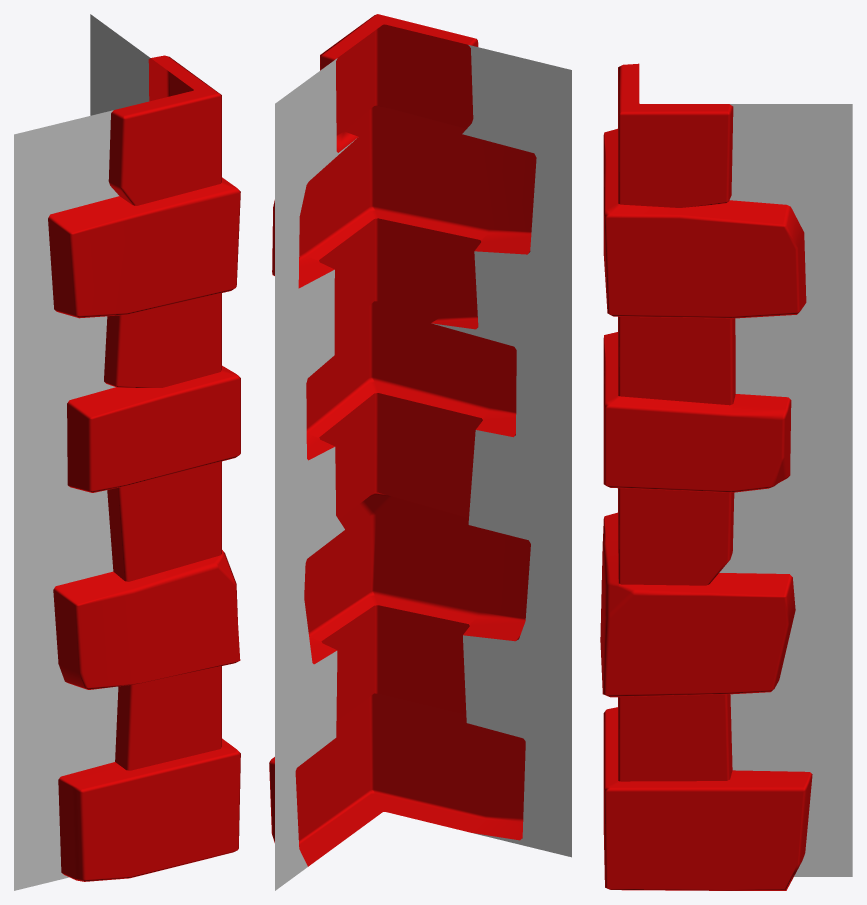
File: Corner_V3_L.fbx
3 views of the same model, side by side, from view 1: azimuth 30°, elevation 25°; view 2: azimuth 150°, elevation 25°; view 3: azimuth 270°, elevation 25° (orthographic). The views are drawn at different scales.
Parts seen in each view (by area): view 1: Corner_V3_L VC; view 2: Corner_V3_L VC; view 3: Corner_V3_L VC.
Part boxes in pixels (left/top/right/bottom): Corner_V3_L VC: left=14, top=14, right=240, bottom=890; Corner_V3_L VC: left=269, top=14, right=571, bottom=890; Corner_V3_L VC: left=600, top=63, right=852, bottom=890.
Size of the model in its own units: 176 by 600 by 177.
